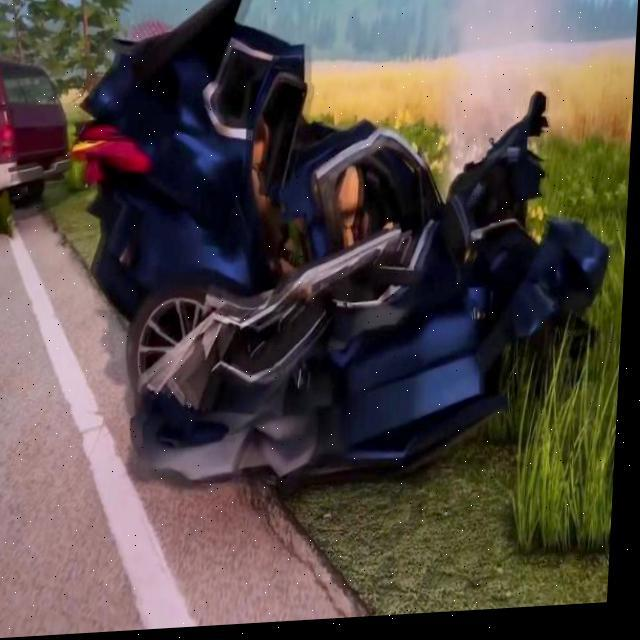multiple_accident: (90, 56, 611, 569), (0, 42, 92, 247)
